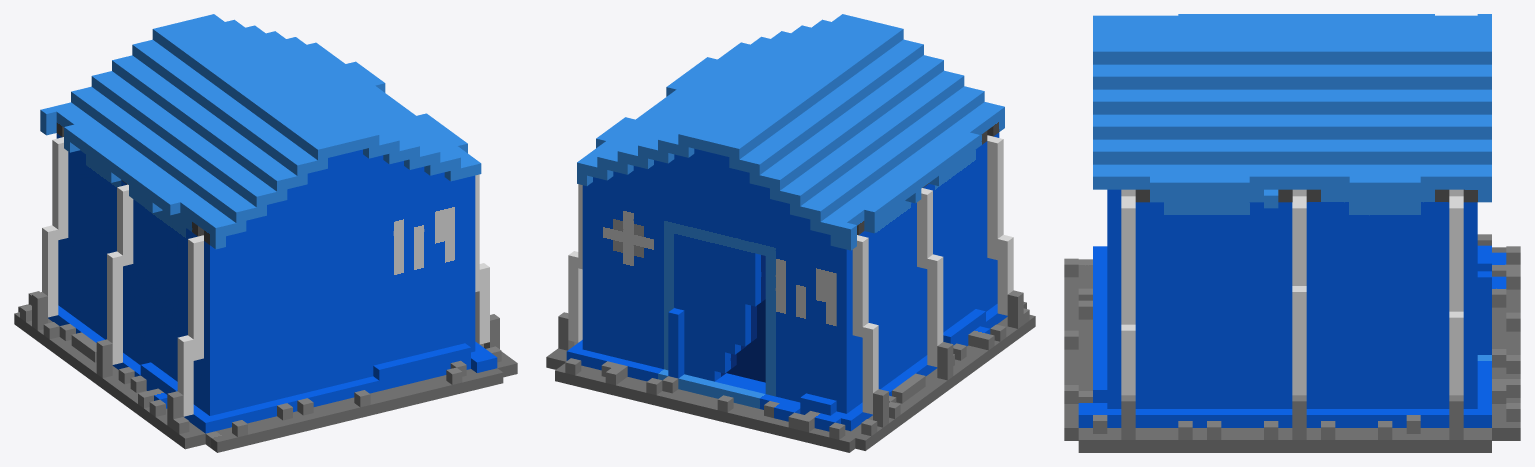
Rendered from obj_house7.fbx.
The picture shows the model from 3 angles, left to right: view 1: azimuth 30°, elevation 25°; view 2: azimuth 150°, elevation 25°; view 3: azimuth 270°, elevation 25°; orthographic projection. The views are drawn at different scales.
Visible parts, largest first — view 1: obj_house7; view 2: obj_house7; view 3: obj_house7.
Part boxes in pixels (box(x1,y1,x2,y2)): obj_house7: box(14, 14, 517, 452); obj_house7: box(546, 14, 1035, 452); obj_house7: box(1064, 14, 1520, 452).
Size of the model in its own units: 3.2 by 3.2 by 2.5.
Materials: 1 (1 with a texture image).
